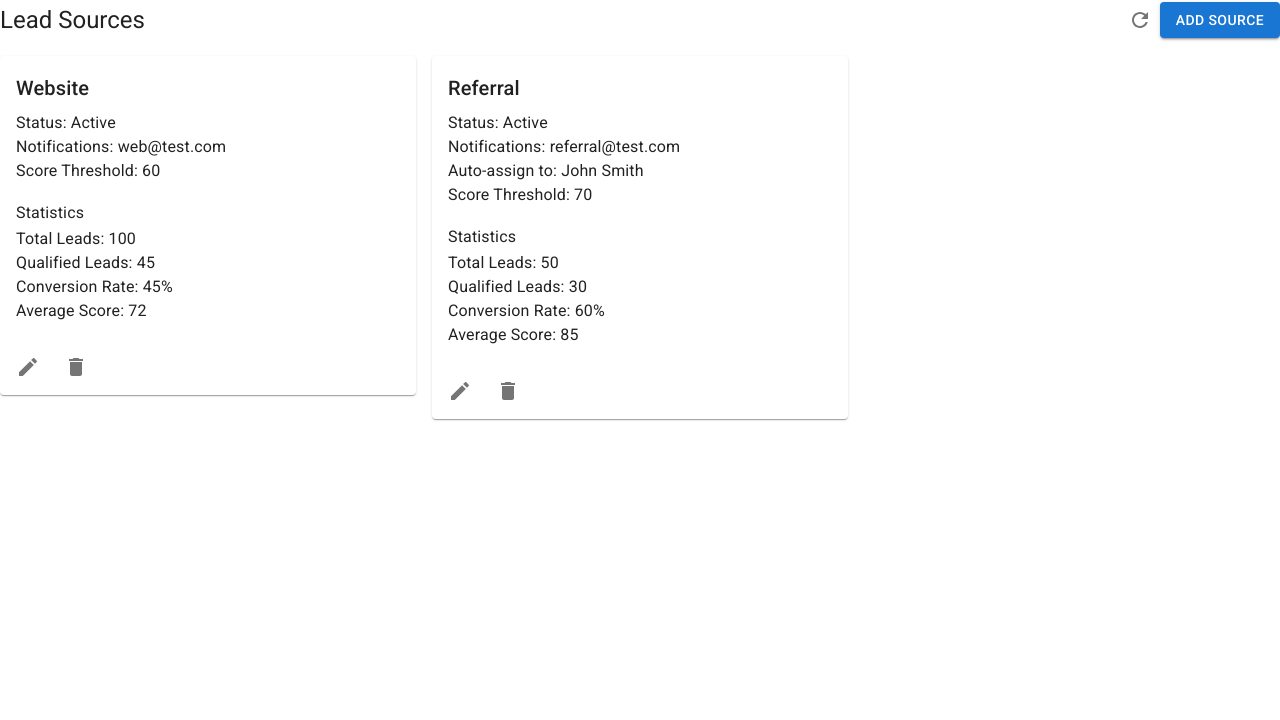
Test: LeadSources › opens edit source dialog
# Click edit button on first source
Click the button titled "Edit" below "72". click: (28, 367)
box: [8,347,48,387]
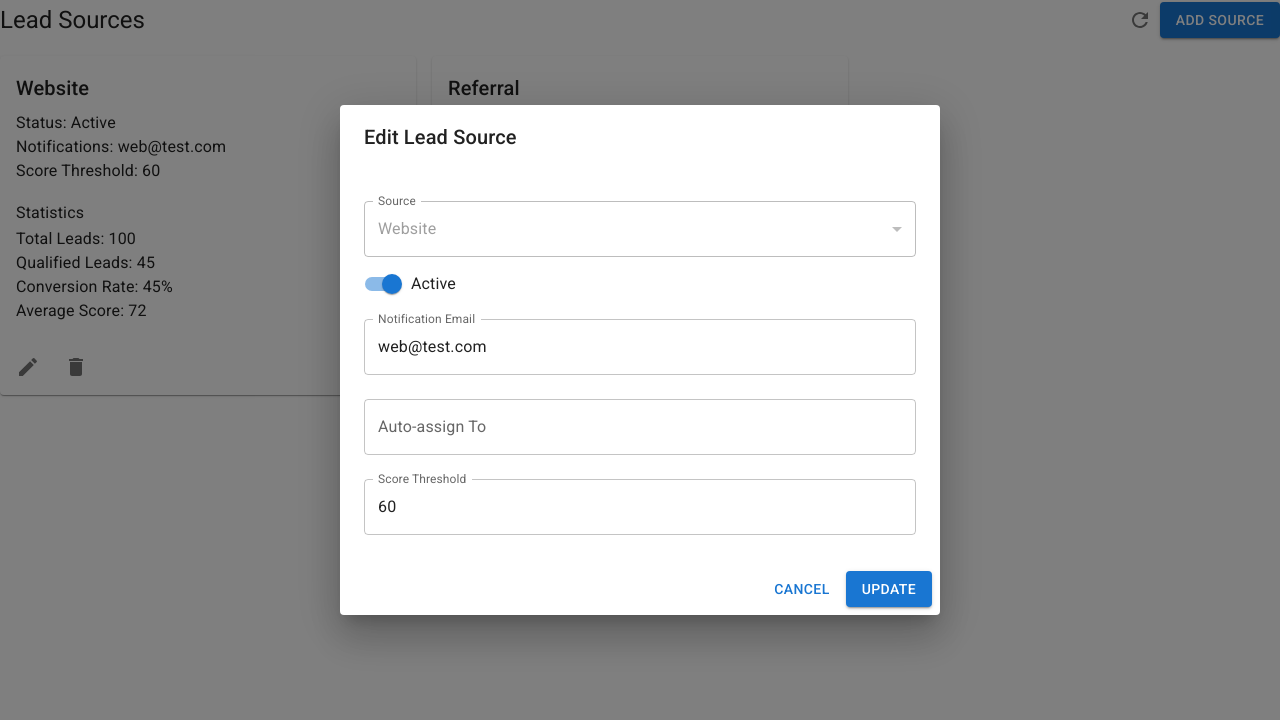
Check: the heading "Edit Lead Source" is shown, box [364,125,517,149]
Check: the field showing "web@test.com" is shown, box [364,319,916,375]
Check: the number field showing "60" is shown, box [364,479,916,535]
